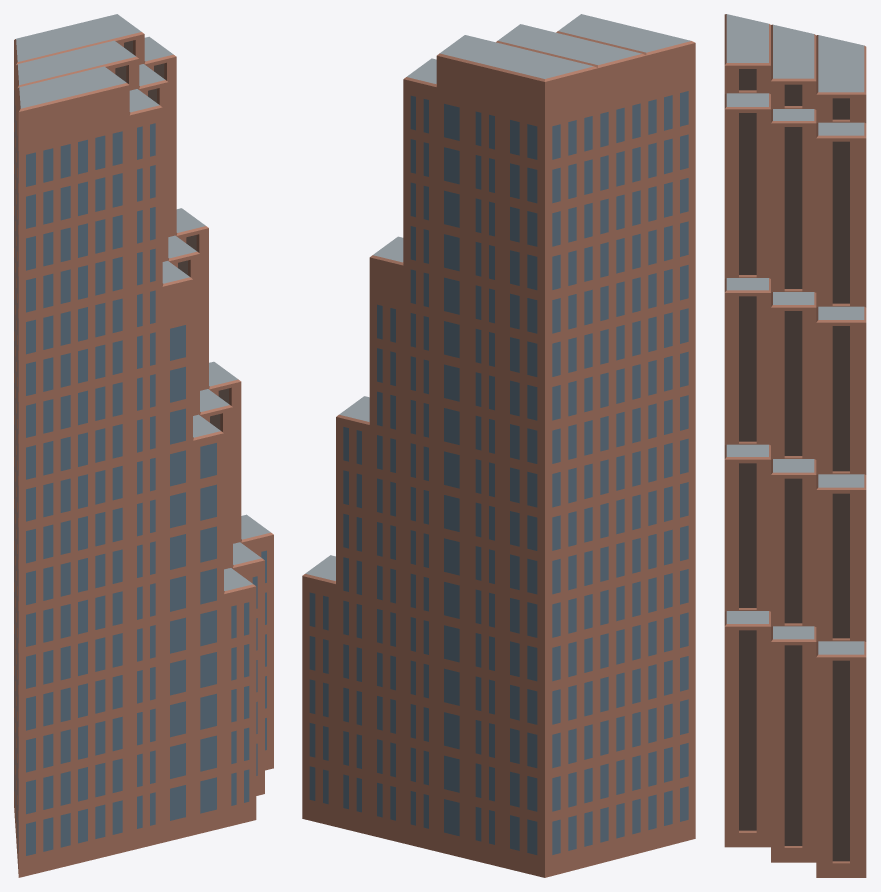
The model's file is atl-georgia-pacific-tower.glb.
3 renders of one model, left to right at view 1: azimuth 30°, elevation 25°; view 2: azimuth 150°, elevation 25°; view 3: azimuth 270°, elevation 25°, orthographic. The views are drawn at different scales.
Visible parts, largest first — view 1: Georgia-Pacific Tower; view 2: Georgia-Pacific Tower; view 3: Georgia-Pacific Tower.
Part boxes in pixels (x1,y1,x2,y2): Georgia-Pacific Tower: (14,14,273,877); Georgia-Pacific Tower: (302,14,695,877); Georgia-Pacific Tower: (724,14,866,877).
Bounding box in the file's own units: 86.71 × 209 × 37.17.
